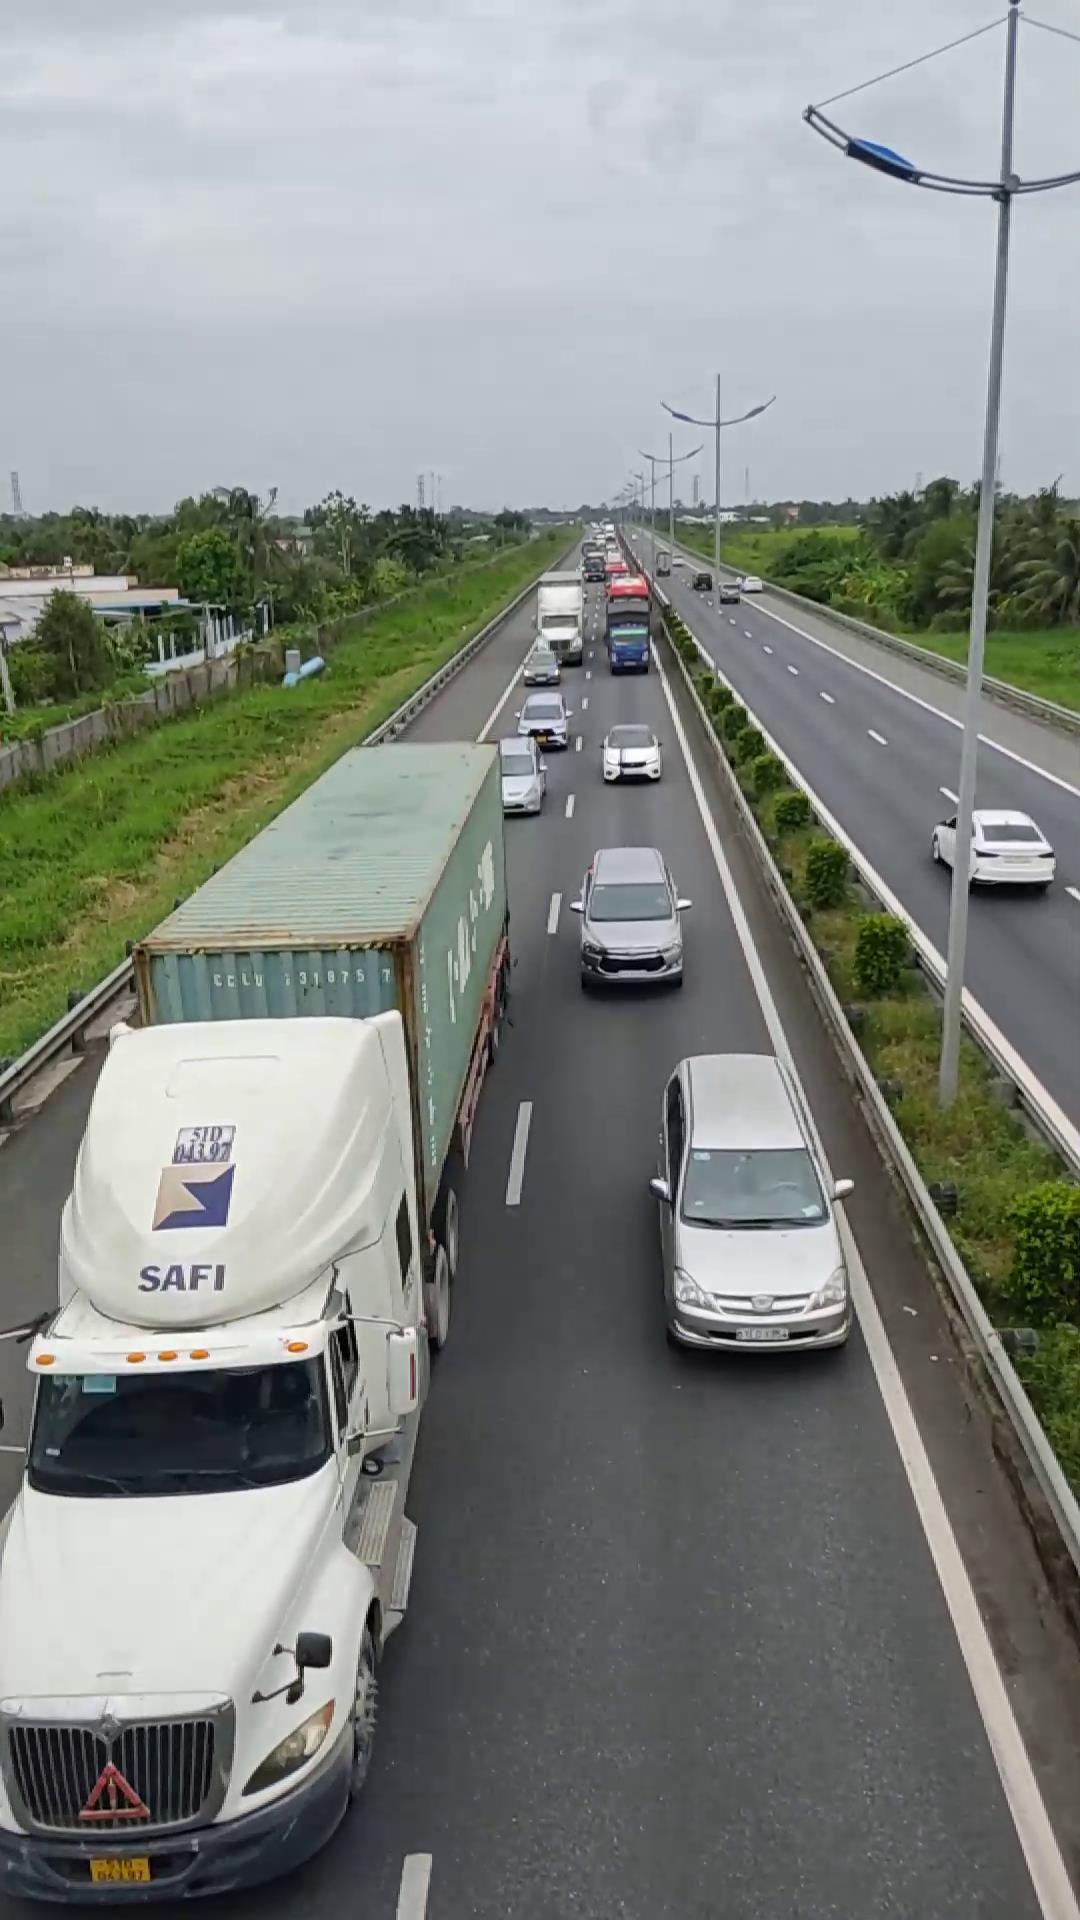car: (648, 1049, 857, 1357), (570, 844, 689, 992), (931, 805, 1056, 893)
container: (20, 732, 517, 1896)
